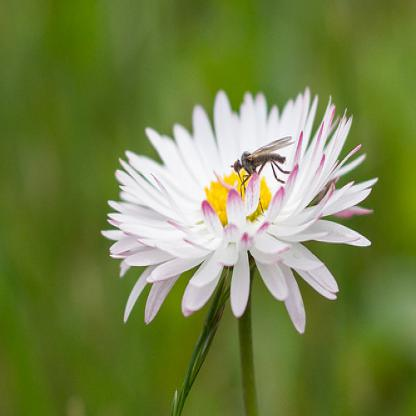ASTER: (86, 27, 394, 361)
